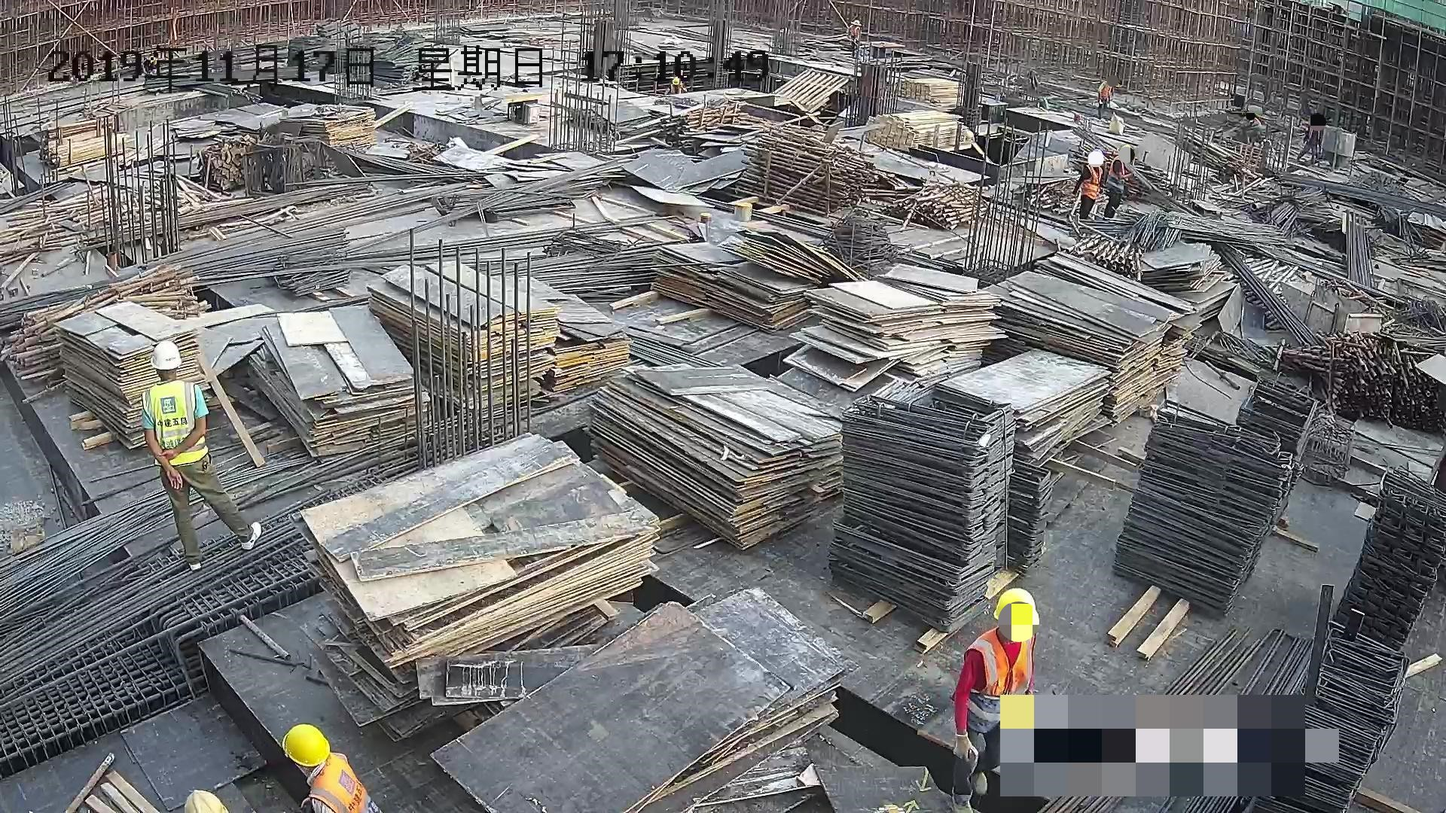hat: (993, 587, 1038, 641), (284, 723, 328, 776), (151, 340, 182, 378), (1119, 144, 1133, 161), (1092, 149, 1101, 165)
person: (138, 340, 263, 574), (955, 587, 1040, 811), (285, 726, 379, 813), (1100, 145, 1134, 219), (1074, 149, 1105, 221)
